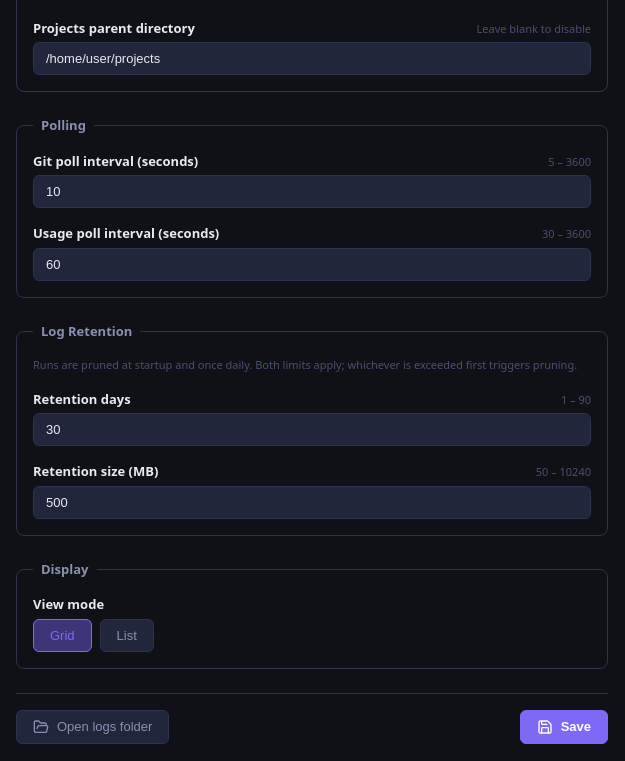
Test case: Settings screen — save happy path › shows Saved! confirmation after successful save
(page scrolled)
Expected: the number field labelled "Git poll interval (seconds) 5 – 3600" is shown, [33, 175, 591, 208]
Click the button with aria-label "save settings" at [564, 726], box [520, 710, 608, 744]
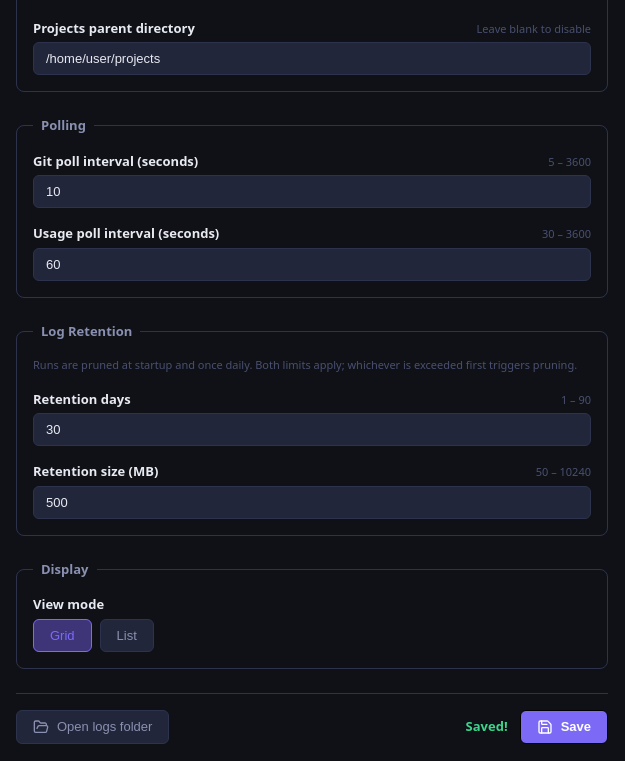
Result: the text "Saved!" is shown at [466, 717, 508, 736]
